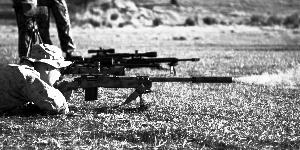sniper: (54, 65, 243, 111), (65, 45, 204, 74)
